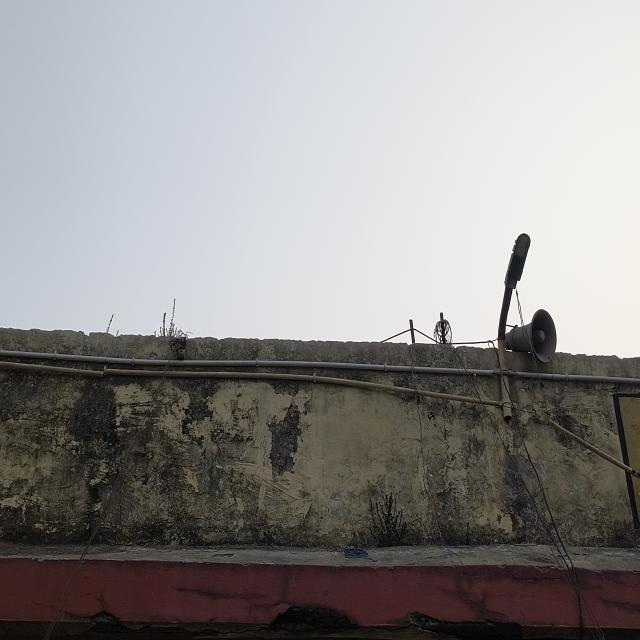stain_mould: (4, 332, 640, 555)
